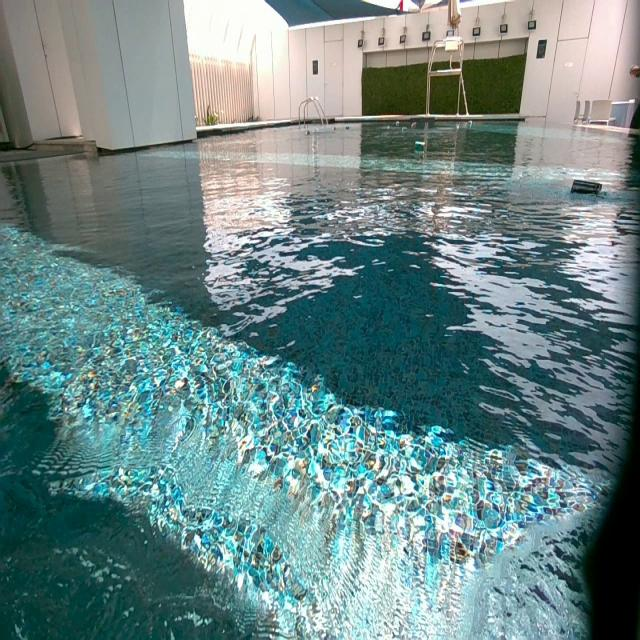Cans: (572, 180, 601, 197), (415, 141, 425, 151), (402, 128, 408, 135), (394, 120, 400, 126), (412, 121, 417, 128), (305, 130, 310, 136), (345, 126, 350, 130), (468, 121, 472, 125), (332, 127, 336, 130)
